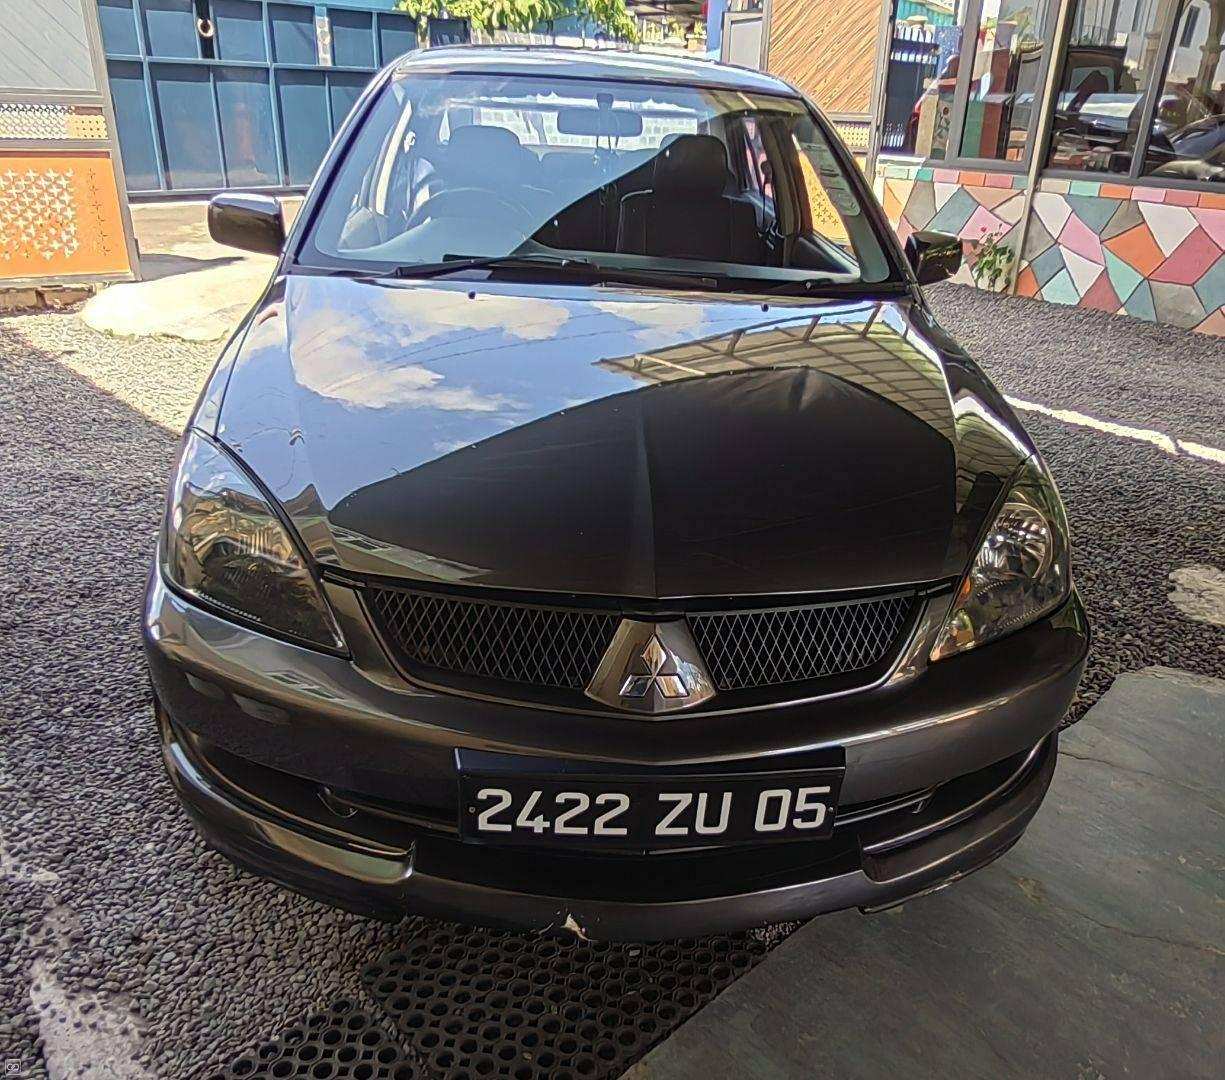Mitsubishi: (603, 618, 705, 721)
